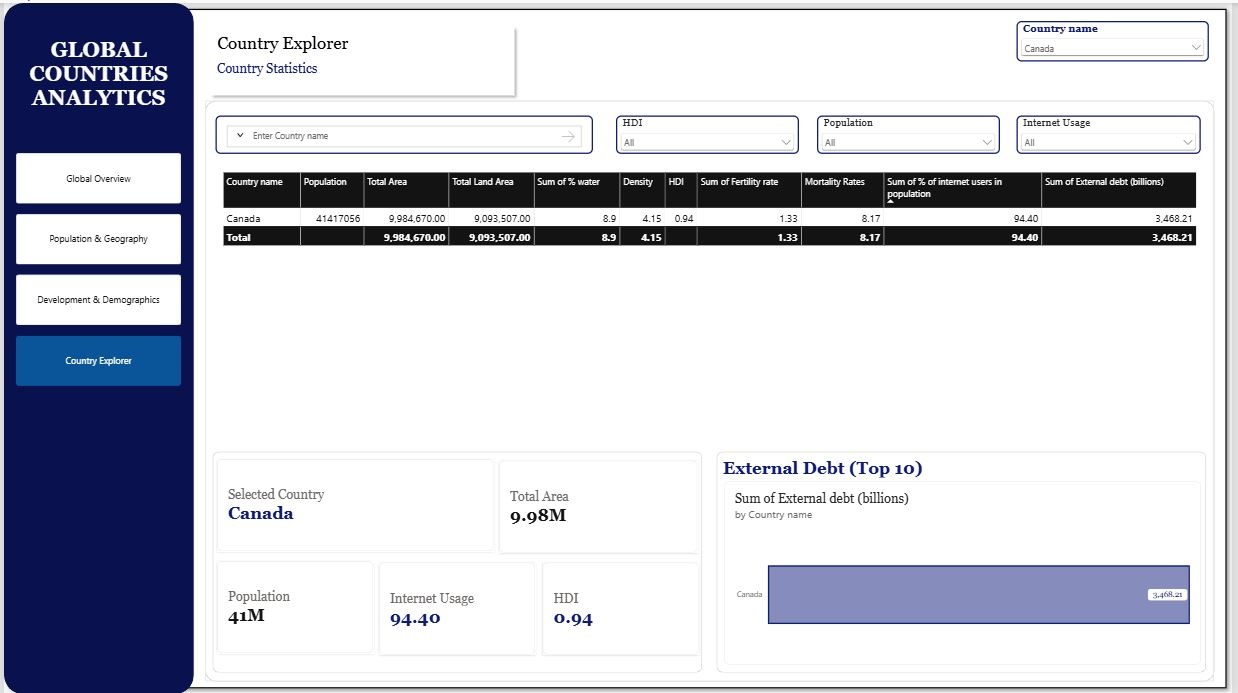

The page's visual inventory and layout, read from the dashboard file:
{"tool":"powerbi","page":{"name":"Country Explorer","canvas":[1920,1080],"ordinal":3},"visuals":[{"type":"shape","box":[0,0,1920.1,1080.4],"z":0},{"type":"shape","box":[313.1,27.1,492.2,124.9],"z":0,"group":"g1"},{"type":"shape","box":[0,0,296.8,1080.4],"z":1000},{"type":"shape","box":[331.3,90.7,457.8,34.4],"z":1000,"group":"g1"},{"type":"pageNavigator","box":[18.1,235.3,258.8,365.6],"z":2000},{"type":"shape","box":[18.1,27.1,258.8,170.1],"z":3000},{"type":"group","id":"g1","title":"Group 1","box":[313.1,27.1,492.2,124.9],"z":4000},{"type":"textbox","box":[1241.4,269.6,56.1,56.1],"z":5000},{"type":"shape","box":[313.1,152,1578,908.4],"z":6000},{"type":"slicer","fields":{"Values":["country_stats.% of internet users in population"]},"box":[1583.5,175.5,287.7,59.7],"z":7000},{"type":"slicer","fields":{"Values":["country_stats.Population"]},"box":[1270.4,175.5,285.9,59.7],"z":8000},{"type":"slicer","fields":{"Values":["country_stats.HDI"]},"box":[955.5,175.5,285.9,59.7],"z":9000},{"type":"tableEx","fields":{"Values":["country_stats.Country name","country_stats.Population","country_stats.Total Area","country_stats.Total Land Area","Sum(country_stats.% water)","country_stats.Density","country_stats.HDI","Sum(country_stats.Fertility rate)","country_stats.Mortality Rates","Sum(country_stats.% of internet users in population)","Sum(country_stats.External debt (billions))"]},"box":[325.7,249.7,1558.1,437.9],"z":10000},{"type":"shape","box":[1114.8,700.1,765.5,345.6],"z":11000},{"type":"hundredPercentStackedBarChart","fields":{"Category":["country_stats.Country name"],"Y":["Sum(country_stats.External debt (billions))"]},"box":[1125.6,747.4,745.6,285.9],"z":12000},{"type":"slicer","fields":{"Values":["country_stats.Country name"]},"box":[1583.5,27.1,300.4,63.3],"z":13000},{"type":"textSlicer","fields":{"Values":["country_stats.Country name"]},"box":[331.2,175.5,589.9,59.7],"z":14000},{"type":"shape","box":[326.1,700.1,765.5,345.6],"z":15000},{"type":"cardVisual","fields":{"Data":["country_stats.Selected Country"]},"box":[331.8,712.7,432.6,144.8],"z":16000},{"type":"cardVisual","fields":{"Data":["country_stats.Selected Population"]},"box":[331.8,873,244.6,144.8],"z":17000},{"type":"cardVisual","fields":{"Data":["country_stats.Selected Total Area"]},"box":[774.6,714.1,310.7,144.8],"z":18000},{"type":"cardVisual","fields":{"Data":["country_stats.Selected HDI"]},"box":[840.7,874.4,244.6,144.8],"z":19000},{"type":"cardVisual","fields":{"Data":["country_stats.Selected Internet Usage"]},"box":[586.2,874.4,244.6,144.8],"z":20000}]}

Visuals, with their boxes in screenshot pixels (x1, y1, x2, y2), scaled from the page's 1920x1080 canvas onto the 1238x693 screenshot:
shape: 0:0:1237:692
shape: 202:17:519:98
shape: 0:0:191:692
shape: 214:58:509:80
pageNavigator: 12:151:179:386
shape: 12:17:179:127
"Group 1" group: 202:17:519:98
textbox: 800:173:837:209
shape: 202:98:1219:680
slicer - country_stats.% of internet users in population: 1021:113:1207:151
slicer - country_stats.Population: 819:113:1003:151
slicer - country_stats.HDI: 616:113:800:151
tableEx - country_stats.Country name x country_stats.Population: 210:160:1215:441
shape: 719:449:1212:671
hundredPercentStackedBarChart - country_stats.Country name x Sum(country_stats.External debt (billions)): 726:480:1207:663
slicer - country_stats.Country name: 1021:17:1215:58
textSlicer - country_stats.Country name: 214:113:594:151
shape: 210:449:704:671
cardVisual - country_stats.Selected Country: 214:457:493:550
cardVisual - country_stats.Selected Population: 214:560:372:653
cardVisual - country_stats.Selected Total Area: 499:458:700:551
cardVisual - country_stats.Selected HDI: 542:561:700:654
cardVisual - country_stats.Selected Internet Usage: 378:561:536:654
